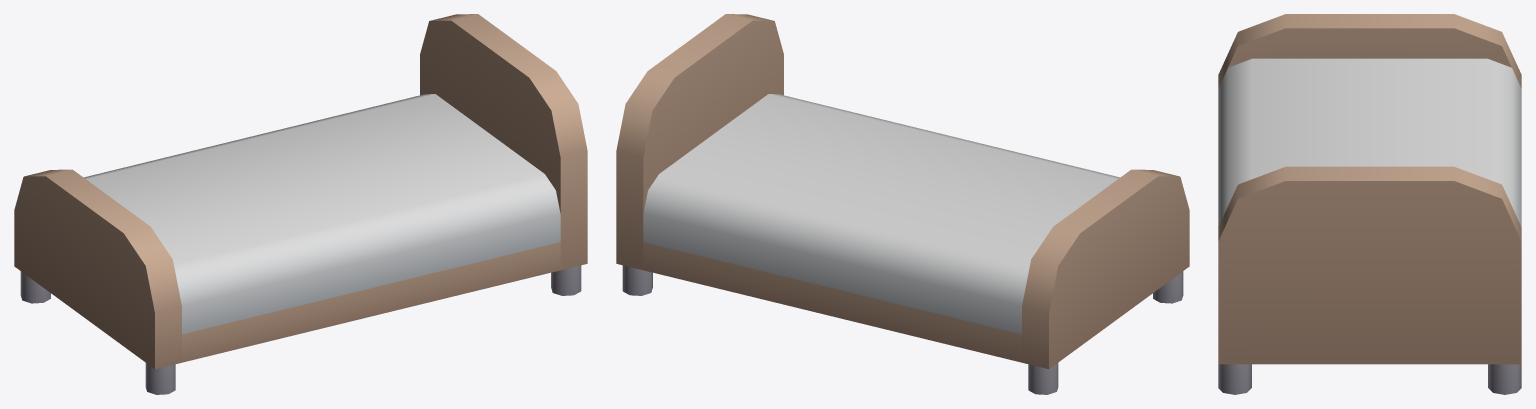
The model's file is bed-rounded-single.glb.
3 renders of one model, left to right at view 1: azimuth 30°, elevation 25°; view 2: azimuth 150°, elevation 25°; view 3: azimuth 270°, elevation 25°, orthographic. The views are drawn at different scales.
Visible parts, largest first — view 1: bed-rounded-single; view 2: bed-rounded-single; view 3: bed-rounded-single.
Part boxes in pixels (box(x1,y1,x2,y2)): bed-rounded-single: box(14, 14, 587, 394); bed-rounded-single: box(616, 14, 1189, 394); bed-rounded-single: box(1218, 14, 1521, 394).
Size of the model in its own units: 1.6 by 0.7 by 0.9.
